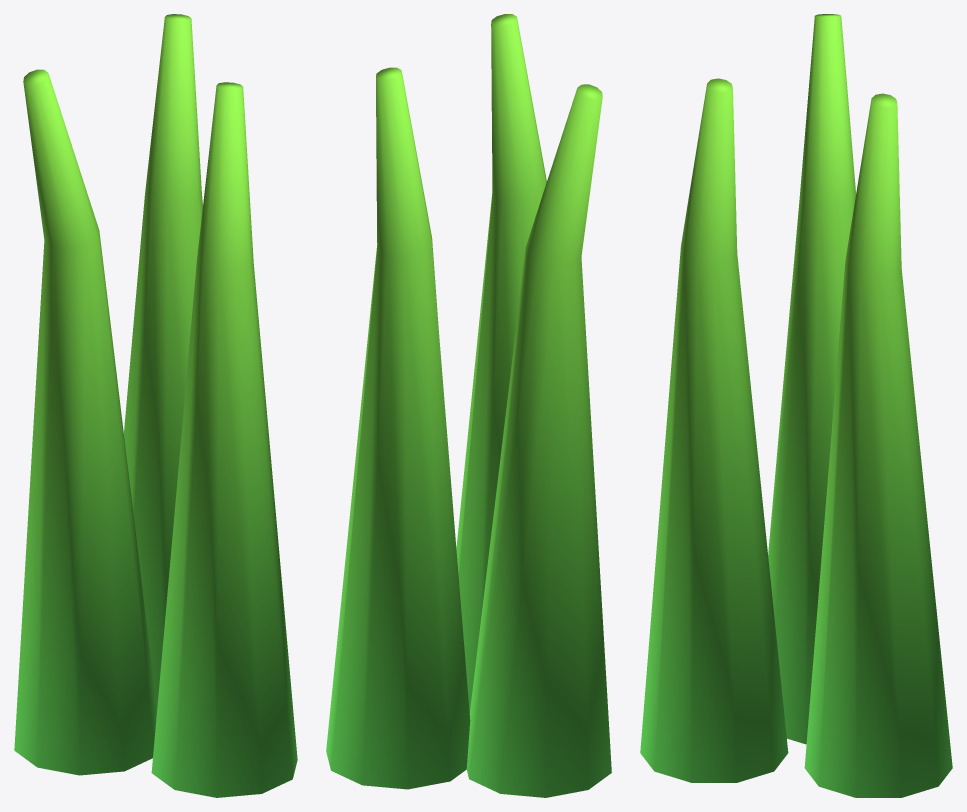
The model's file is Grass002.fbx.
3 views of the same model, side by side, from view 1: azimuth 30°, elevation 25°; view 2: azimuth 150°, elevation 25°; view 3: azimuth 270°, elevation 25° (orthographic).
Visible parts, largest first — view 1: Grass002; view 2: Grass002; view 3: Grass002.
Part boxes in pixels (x1,y1,x2,y2): Grass002: (14,14,297,797); Grass002: (326,14,611,797); Grass002: (640,14,952,797).
Bounding box in the file's own units: 39.96 × 111 × 46.49.
